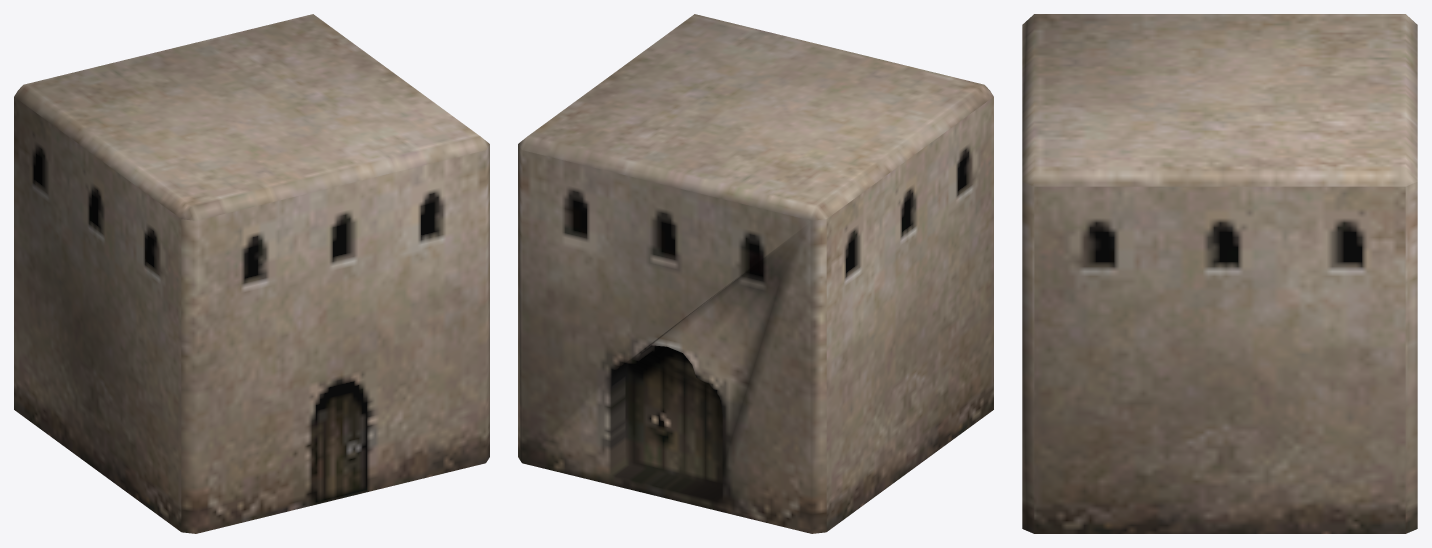
File: stbuho42.dae
The picture shows the model from 3 angles, left to right: view 1: azimuth 30°, elevation 25°; view 2: azimuth 150°, elevation 25°; view 3: azimuth 270°, elevation 25°; orthographic projection. The views are drawn at different scales.
Parts seen in each view (by area): view 1: box; view 2: box; view 3: box.
Boxes of the visible parts, x1,y1,x2,y2 form: box: [14, 14, 489, 533]; box: [518, 14, 993, 533]; box: [1022, 14, 1417, 533].
Bounding box in the file's own units: 2.6 × 2.6 × 2.6.
Materials: 1 (1 with a texture image).
